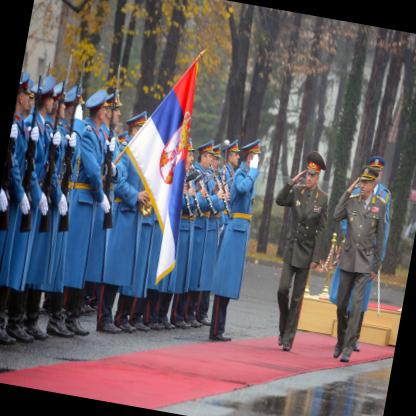rs: (103, 51, 211, 289)
